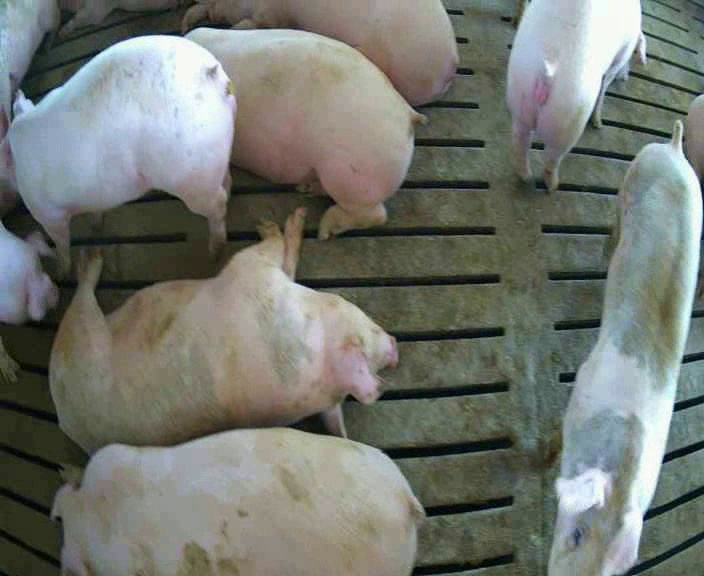pig: (50, 208, 396, 452), (548, 121, 701, 574), (0, 35, 235, 271), (52, 428, 423, 574), (186, 28, 423, 238), (182, 0, 457, 104), (507, 2, 645, 189)
